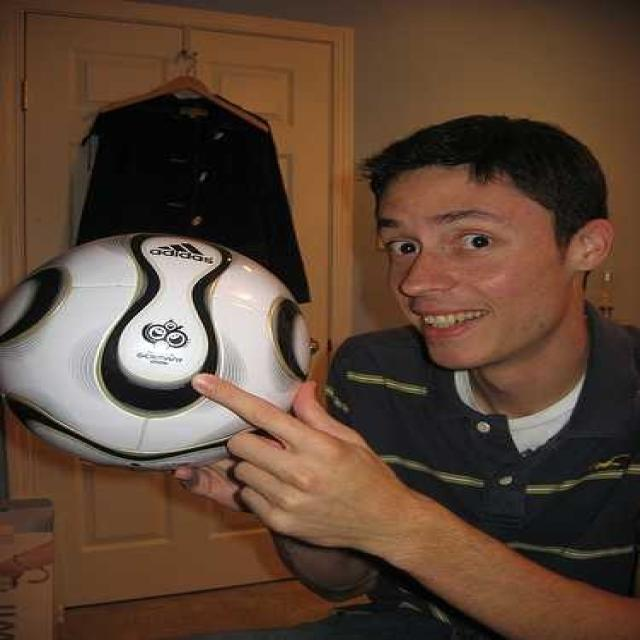ball: (0, 232, 311, 470)
